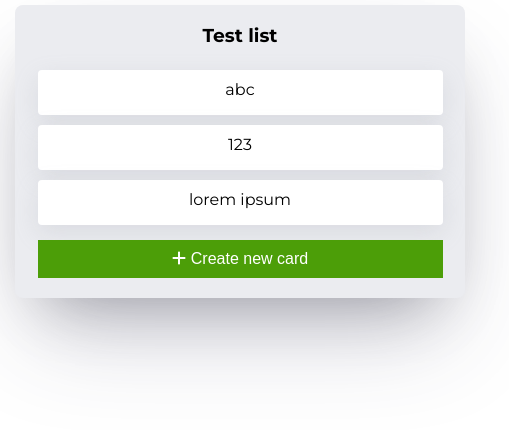
List component › Should allow user to create new card on button click
Click the button "Create new card" at (240, 259), box [38,240,442,278]
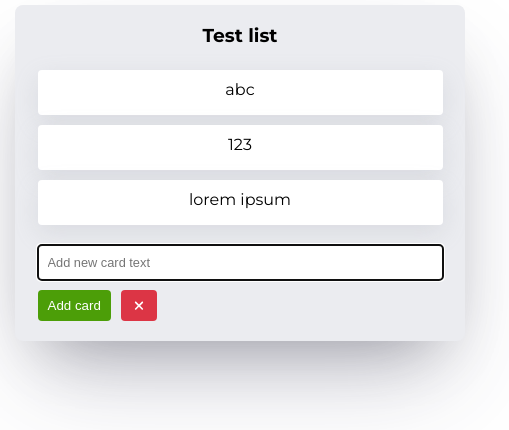
Expected: the field with test id "list-create-input" is shown, [38,245,442,280]
